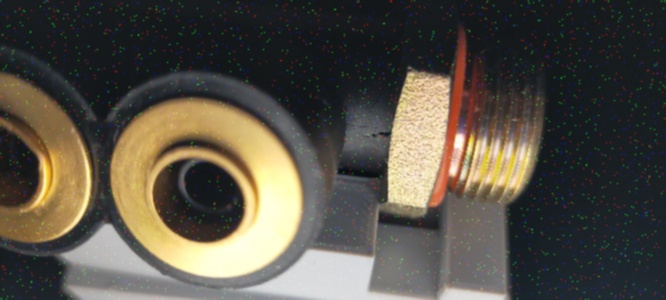craze: (363, 129, 392, 141)
joint line: (345, 120, 362, 131)
